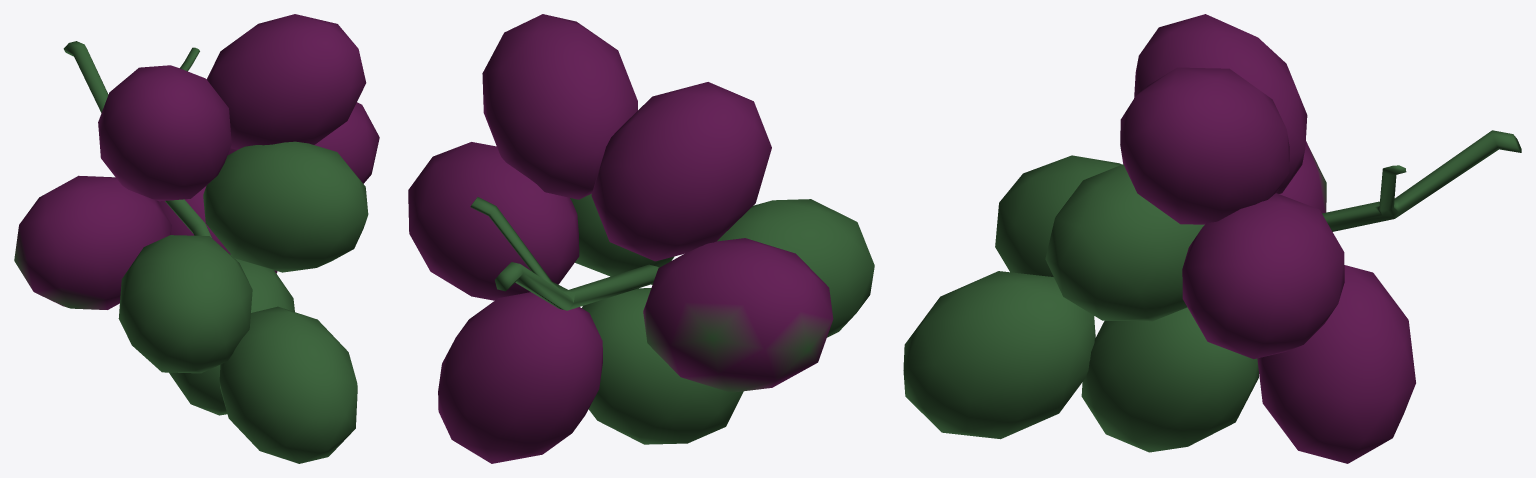
File: grapes.glb
3 renders of one model, left to right at view 1: azimuth 30°, elevation 25°; view 2: azimuth 150°, elevation 25°; view 3: azimuth 270°, elevation 25°, orthographic. The views are drawn at different scales.
Visible parts, largest first — view 1: Cylinder; view 2: Cylinder; view 3: Cylinder.
Boxes of the visible parts, left/top/right/bottom form: Cylinder: left=14, top=14, right=379, bottom=463; Cylinder: left=408, top=14, right=874, bottom=463; Cylinder: left=903, top=14, right=1521, bottom=463.
Bounding box in the file's own units: 0.655 × 0.6224 × 0.8342.
